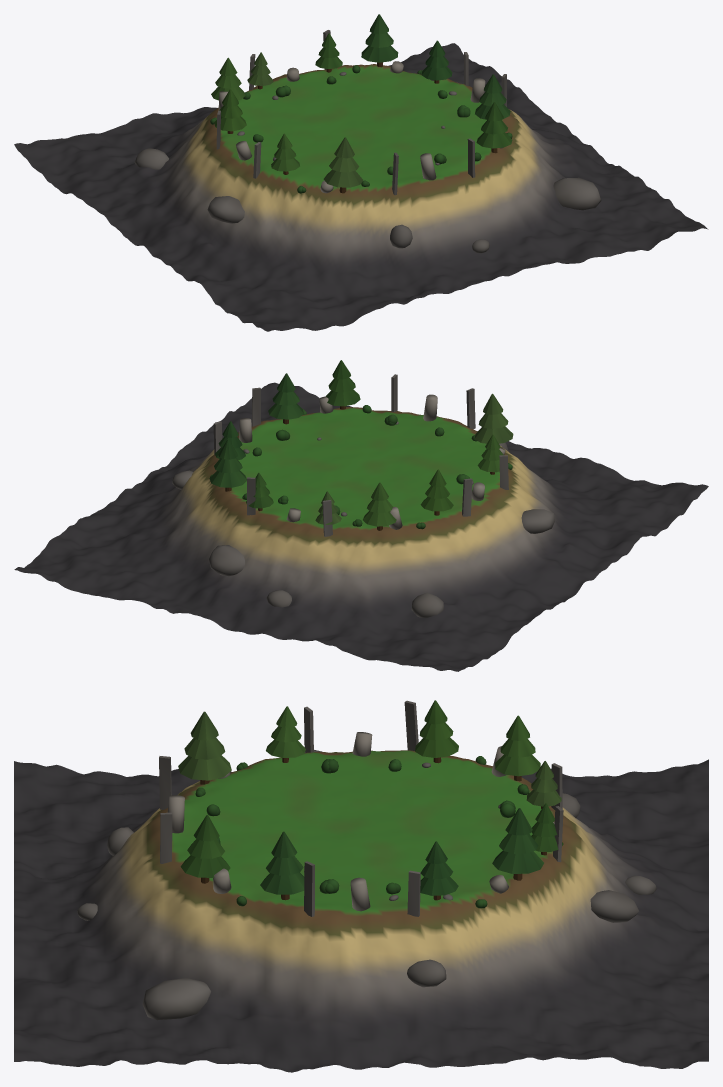
File: island.glb
The picture shows the model from 3 angles, top to bottom: view 1: azimuth 30°, elevation 25°; view 2: azimuth 150°, elevation 25°; view 3: azimuth 270°, elevation 25°; orthographic projection. The views are drawn at different scales.
Visible parts, largest first — view 1: Island, Boulder_04, Tree_03, Tree_00, Tree_02, Boulder_01, Tree_06, Tree_05, Tree_04, Tree_01, Tree_07, Tree_08 (+2 smaller); view 2: Island, Tree_00, Tree_03, Tree_06, Tree_02, Tree_01, Boulder_02, Tree_05, Boulder_01, Boulder_05, Tree_07, Tree_08; view 3: Island, Boulder_04, Tree_03, Tree_00, Tree_06, Tree_02, Tree_01, Tree_05, Tree_04, Tree_07, Boulder_02, Tree_09 (+6 smaller).
Boxes of the visible parts, x1,y1,x2,y2 form: Island: [14, 43, 708, 331]; Boulder_04: [553, 177, 601, 210]; Tree_03: [323, 137, 363, 193]; Tree_00: [361, 14, 398, 67]; Tree_02: [476, 102, 512, 153]; Boulder_01: [207, 196, 244, 223]; Tree_06: [475, 74, 510, 119]; Tree_05: [214, 89, 246, 133]; Tree_04: [422, 40, 452, 83]; Tree_01: [211, 57, 245, 100]; Tree_07: [271, 133, 299, 174]; Tree_08: [315, 33, 342, 72]; Island: [14, 382, 708, 671]; Tree_00: [209, 439, 246, 491]; Tree_03: [474, 393, 513, 443]; Tree_06: [268, 373, 303, 424]; Tree_02: [325, 360, 360, 409]; Tree_01: [363, 482, 396, 530]; Boulder_02: [209, 545, 244, 576]; Tree_05: [420, 469, 453, 515]; Boulder_01: [521, 509, 554, 533]; Boulder_05: [411, 592, 443, 617]; Tree_07: [477, 434, 503, 474]; Tree_08: [246, 472, 273, 510]; Island: [14, 750, 708, 1072]; Boulder_04: [142, 978, 210, 1020]; Tree_03: [178, 711, 231, 784]; Tree_00: [492, 808, 543, 880]; Tree_06: [260, 831, 304, 900]; Tree_02: [180, 815, 230, 883]; Tree_01: [495, 715, 540, 781]; Tree_05: [415, 700, 458, 763]; Tree_04: [420, 841, 458, 900]; Tree_07: [266, 706, 305, 762]; Boulder_02: [590, 890, 638, 922]; Tree_09: [526, 761, 561, 808].
Bounding box in the file's own units: 32 × 8.59 × 32.
